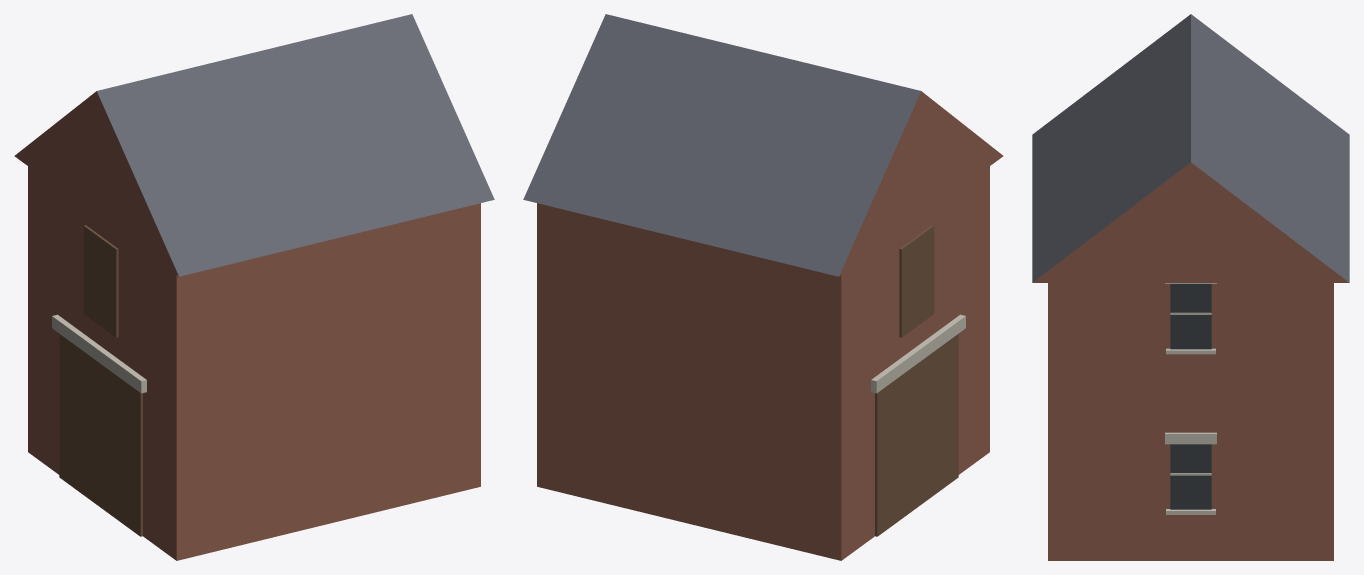
The model's file is house_1805_indiana_shed__draft_1904.glb.
3 renders of one model, left to right at view 1: azimuth 30°, elevation 25°; view 2: azimuth 150°, elevation 25°; view 3: azimuth 270°, elevation 25°, orthographic. The views are drawn at different scales.
Visible parts, largest first — view 1: house_1805_indiana_shed__draft_1904; view 2: house_1805_indiana_shed__draft_1904; view 3: house_1805_indiana_shed__draft_1904.
Boxes of the visible parts, x1,y1,x2,y2 form: house_1805_indiana_shed__draft_1904: (14, 14, 494, 560); house_1805_indiana_shed__draft_1904: (523, 14, 1003, 560); house_1805_indiana_shed__draft_1904: (1032, 14, 1349, 560).
Bounding box in the file's own units: 6.74 × 8.51 × 6.1.
